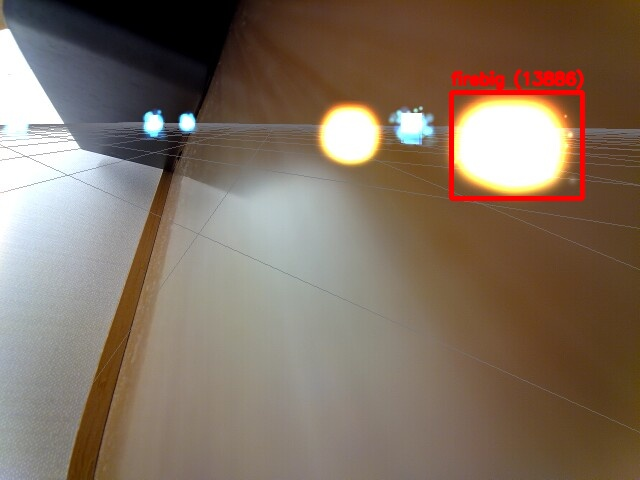firebig: (451, 92, 582, 198)
